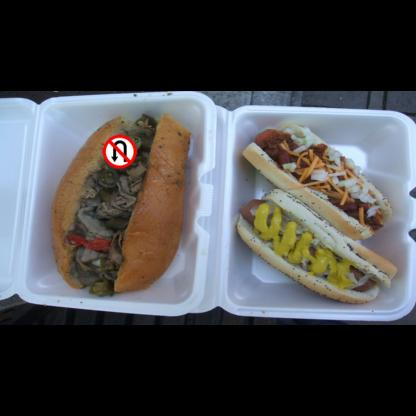R-5a: (102, 134, 137, 168)
